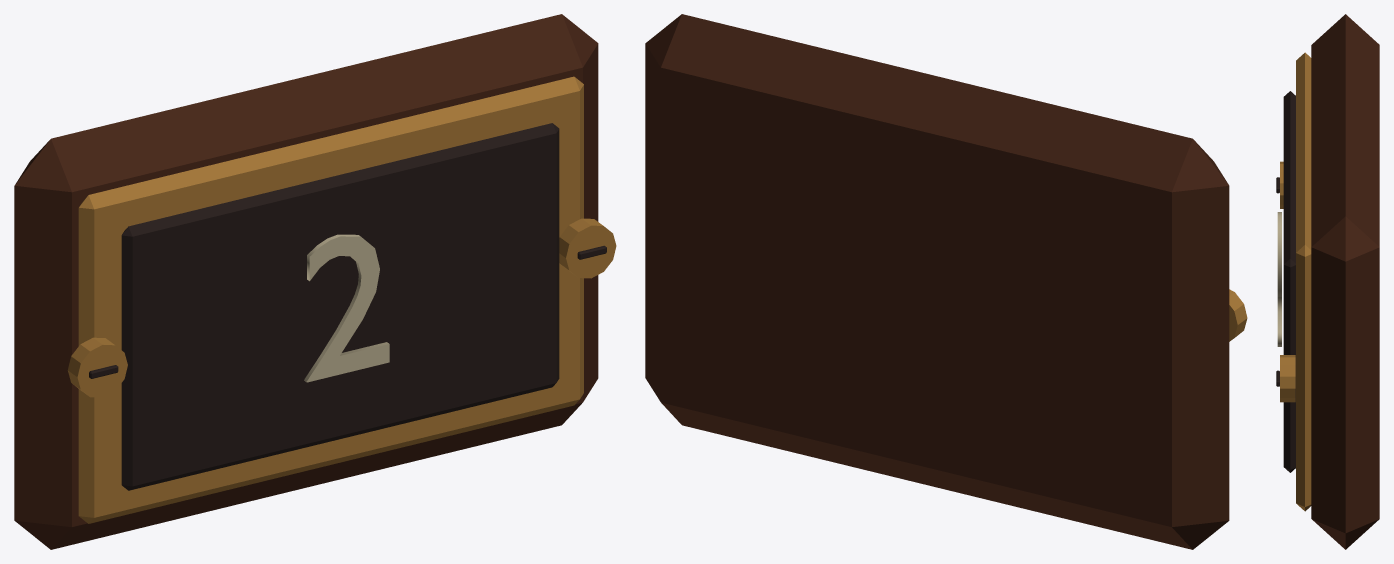
File: RoomPlaque_02.glb
3 views of the same model, side by side, from view 1: azimuth 30°, elevation 25°; view 2: azimuth 150°, elevation 25°; view 3: azimuth 270°, elevation 25° (orthographic). The views are drawn at different scales.
Parts seen in each view (by area): view 1: DarkEnamel.001, OakPlaque.001, BrassInset.001, RoomNumber.001, BrassScrew.004, BrassScrew.005; view 2: OakPlaque.001; view 3: OakPlaque.001, BrassInset.001, DarkEnamel.001, BrassScrew.005, RoomNumber.001, BrassScrew.004.
Boxes of the visible parts, left/top/right/bottom form: DarkEnamel.001: left=121, top=123, right=559, bottom=490; OakPlaque.001: left=14, top=14, right=598, bottom=549; BrassInset.001: left=78, top=76, right=583, bottom=523; RoomNumber.001: left=304, top=234, right=389, bottom=382; BrassScrew.004: left=67, top=337, right=127, bottom=397; BrassScrew.005: left=559, top=218, right=616, bottom=278; OakPlaque.001: left=645, top=14, right=1229, bottom=549; OakPlaque.001: left=1311, top=14, right=1379, bottom=549; BrassInset.001: left=1296, top=52, right=1311, bottom=511; DarkEnamel.001: left=1283, top=91, right=1295, bottom=472; BrassScrew.005: left=1280, top=355, right=1295, bottom=402; RoomNumber.001: left=1277, top=212, right=1281, bottom=346; BrassScrew.004: left=1280, top=161, right=1283, bottom=208.
Size of the model in its own units: 1.04 by 0.7 by 0.197.
